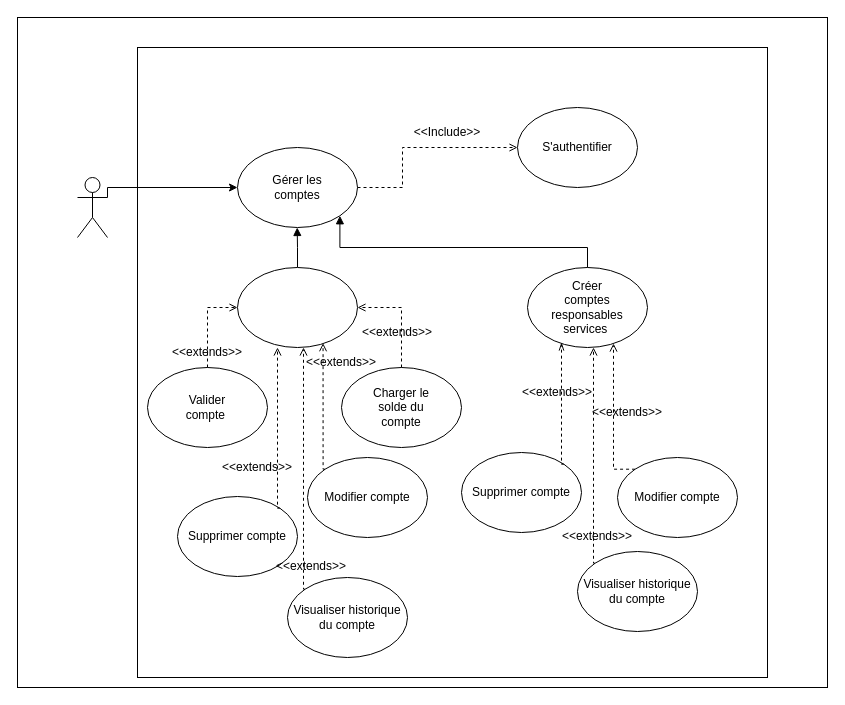
Some shapes in this 845 by 705 pixel diagram are drawn without their labels. The box of each missing label's shape, as (x1, y1, x2, y2) in pixels:
Admin: (76, 176, 108, 238)
Consulter comptes clients: (236, 266, 358, 348)
